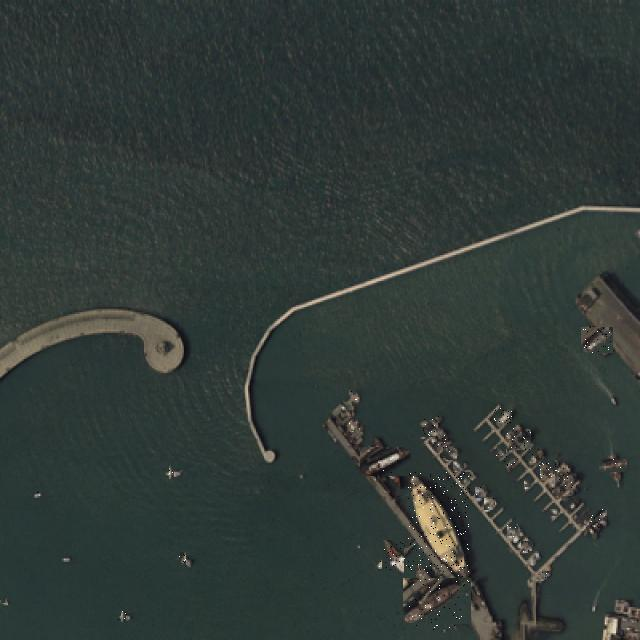boat: (408, 472, 470, 588), (409, 572, 466, 630), (365, 441, 406, 482), (583, 326, 612, 354), (379, 542, 407, 570), (550, 472, 576, 496), (547, 463, 570, 486), (509, 428, 531, 450), (603, 454, 623, 476), (418, 419, 438, 438), (539, 460, 557, 478), (504, 421, 522, 439), (494, 408, 512, 425), (526, 447, 542, 465), (429, 427, 445, 442), (443, 445, 458, 460), (591, 509, 607, 523), (562, 486, 578, 500), (434, 436, 448, 450), (340, 403, 353, 417), (483, 498, 496, 510), (504, 454, 515, 468), (586, 526, 598, 538), (506, 524, 518, 536), (474, 488, 486, 500), (461, 470, 473, 482), (512, 529, 523, 541), (517, 534, 528, 546), (520, 541, 532, 552), (528, 552, 539, 564), (453, 460, 464, 471), (496, 446, 507, 456), (178, 553, 188, 564), (166, 466, 176, 476), (118, 610, 128, 620), (590, 521, 599, 530), (608, 394, 616, 404), (549, 508, 557, 517), (349, 422, 358, 430), (353, 429, 361, 438), (523, 479, 531, 487), (542, 570, 549, 578), (435, 414, 442, 422), (435, 569, 442, 576), (506, 544, 512, 552), (348, 389, 356, 395), (364, 453, 372, 459), (0, 596, 8, 602), (346, 418, 352, 425), (360, 446, 366, 452), (536, 576, 542, 581), (482, 497, 488, 502), (415, 565, 420, 571), (32, 491, 40, 494), (352, 396, 358, 400), (61, 555, 69, 558), (430, 564, 436, 567), (354, 398, 358, 402), (186, 562, 190, 565), (178, 468, 180, 470)
